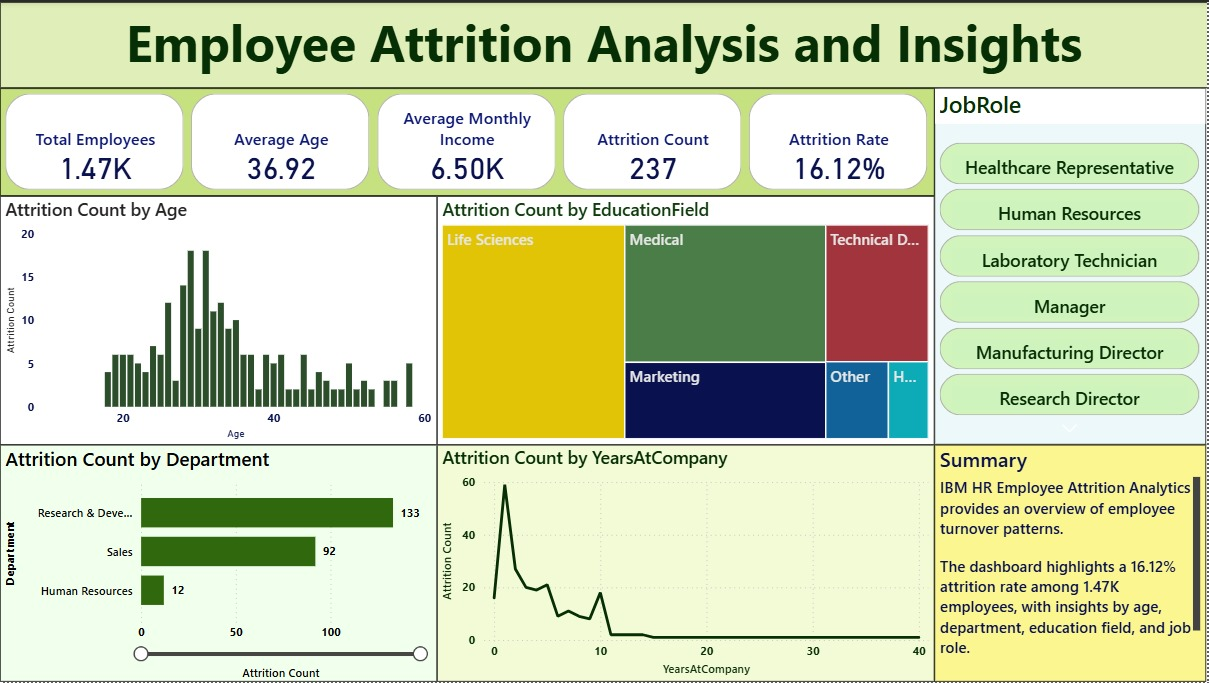

What the dashboard file says about the page in this screenshot:
{"tool":"powerbi","page":{"name":"Page 8","canvas":[1280,720],"ordinal":7},"visuals":[{"type":"textbox","box":[0,0,1281.4,91.4],"z":0},{"type":"cardVisual","fields":{"Data":["IBM employers dataset.Total Employees","IBM employers dataset.Average Age","IBM employers dataset.Average Monthly Income","IBM employers dataset.Attrition Count","IBM employers dataset.Attrition Rate"]},"box":[0,91.4,990.3,114.3],"z":1000},{"type":"clusteredColumnChart","fields":{"Y":["IBM employers dataset.Attrition Count"],"Category":["IBM employers dataset.Age"]},"box":[0,205.7,463.2,263.6],"z":2000},{"type":"clusteredBarChart","fields":{"Category":["IBM employers dataset.Department"],"Y":["IBM employers dataset.Attrition Count"]},"box":[0,469.3,463.2,251.4],"z":3000},{"type":"treemap","fields":{"Values":["IBM employers dataset.Attrition Count"],"Group":["IBM employers dataset.EducationField"]},"box":[463.2,205.7,527.2,263.6],"z":4000},{"type":"advancedSlicerVisual","fields":{"Values":["IBM employers dataset.JobRole"]},"box":[990.3,91.4,288,377.9],"z":6000},{"type":"lineChart","fields":{"Category":["IBM employers dataset.YearsAtCompany"],"Y":["IBM employers dataset.Attrition Count"]},"box":[463.2,469.3,527.2,251.4],"z":7000},{"type":"textbox","title":"Summary","box":[990.3,469.3,288,251.4],"z":8000}]}

Visuals, with their boxes in screenshot pixels (x1, y1, x2, y2), scaled from the page's 1280x720 canvas onto the 1209x683 screenshot:
textbox: <bbox>0, 0, 1208, 87</bbox>
cardVisual - IBM employers dataset.Total Employees x IBM employers dataset.Average Age: <bbox>0, 87, 935, 195</bbox>
clusteredColumnChart - IBM employers dataset.Attrition Count x IBM employers dataset.Age: <bbox>0, 195, 438, 445</bbox>
clusteredBarChart - IBM employers dataset.Department x IBM employers dataset.Attrition Count: <bbox>0, 445, 438, 682</bbox>
treemap - IBM employers dataset.Attrition Count x IBM employers dataset.EducationField: <bbox>438, 195, 935, 445</bbox>
advancedSlicerVisual - IBM employers dataset.JobRole: <bbox>935, 87, 1207, 445</bbox>
lineChart - IBM employers dataset.YearsAtCompany x IBM employers dataset.Attrition Count: <bbox>438, 445, 935, 682</bbox>
"Summary" textbox: <bbox>935, 445, 1207, 682</bbox>
